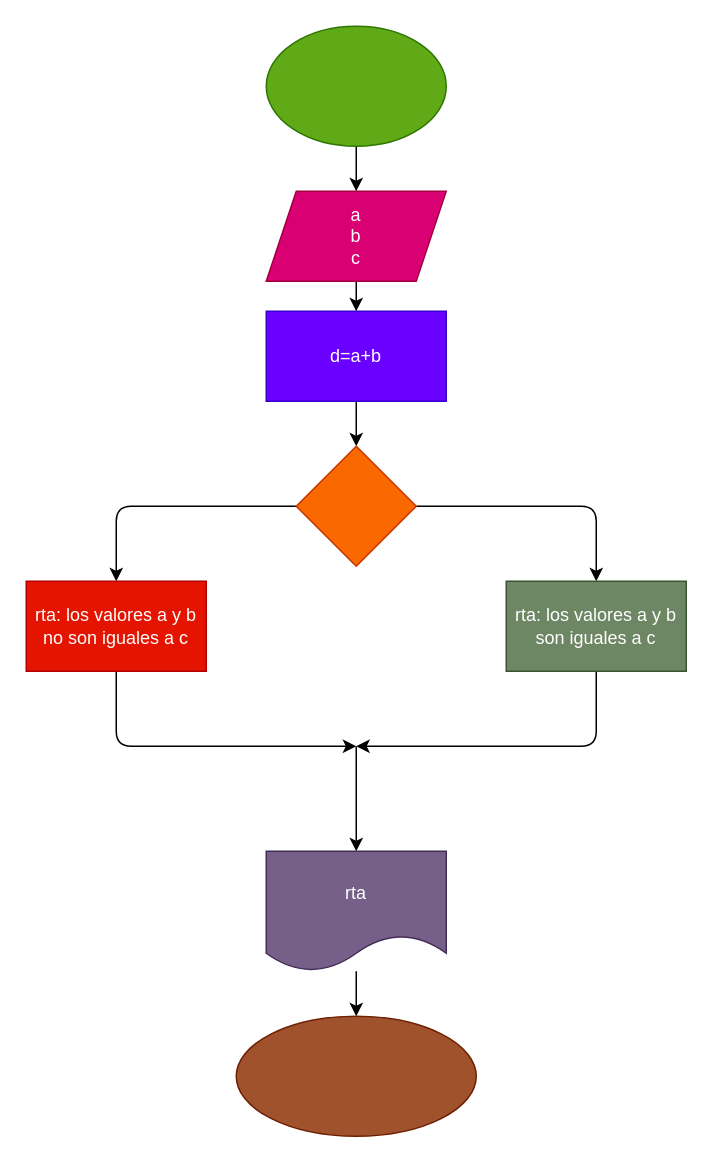
The diagram is 713 pixels wide and 1163 high, and some of its shapes have lost their labels. The box of each missing label's shape, as (x1, y1, x2, y2) in pixels:
d == c: (295, 445, 416, 566)
Fin: (235, 1015, 476, 1136)
Inicio: (265, 25, 446, 146)
